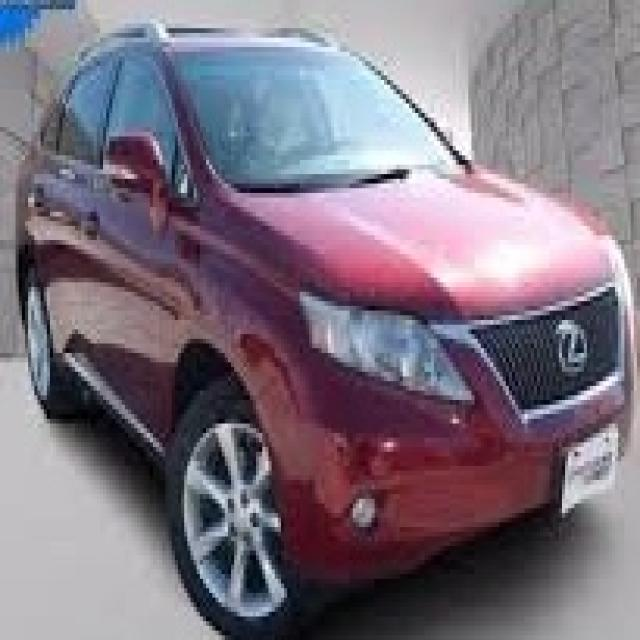maroon: (18, 15, 640, 569)
